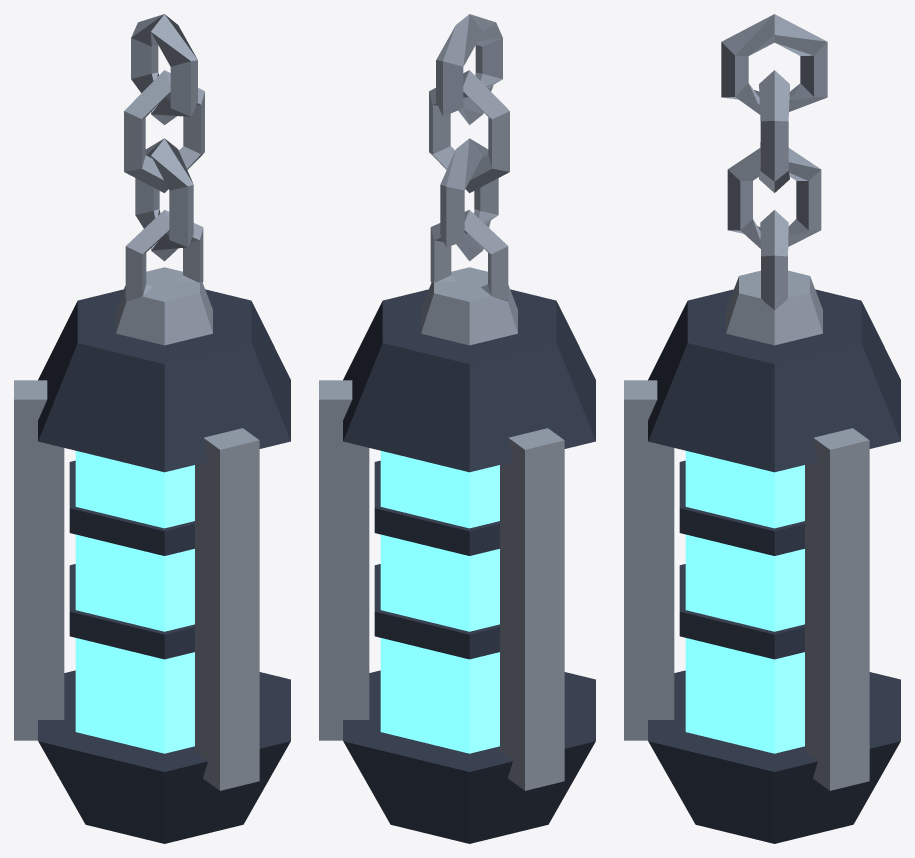
File: BatteryCell.fbx
The picture shows the model from 3 angles, left to right: view 1: azimuth 30°, elevation 25°; view 2: azimuth 150°, elevation 25°; view 3: azimuth 270°, elevation 25°; orthographic projection.
Visible parts, largest first — view 1: Body_Cell_Dark, Body_Cell_Steel, Neon, Chain; view 2: Body_Cell_Dark, Body_Cell_Steel, Neon, Chain; view 3: Body_Cell_Dark, Body_Cell_Steel, Neon, Chain.
Boxes of the visible parts, x1,y1,x2,y2 form: Body_Cell_Dark: (38, 289, 290, 843); Body_Cell_Steel: (14, 210, 259, 790); Neon: (75, 451, 194, 753); Chain: (124, 14, 204, 261); Body_Cell_Dark: (343, 289, 595, 843); Body_Cell_Steel: (319, 210, 564, 790); Neon: (380, 451, 499, 753); Chain: (429, 14, 509, 261); Body_Cell_Dark: (648, 289, 900, 843); Body_Cell_Steel: (624, 210, 869, 790); Neon: (685, 451, 804, 753); Chain: (721, 14, 827, 248).
Bounding box in the file's own units: 0.128 × 0.3829 × 0.1214.
